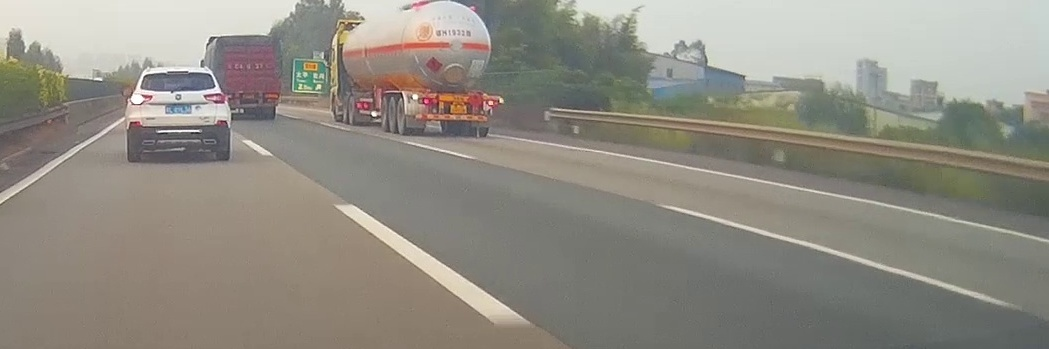L_light: (130, 94, 153, 104), (418, 98, 435, 104)
R_light: (203, 93, 227, 104), (483, 100, 498, 106)
T_light: (167, 70, 189, 73), (453, 95, 464, 101)
day-brake: (404, 91, 504, 137)
day-left: (125, 66, 231, 161)
